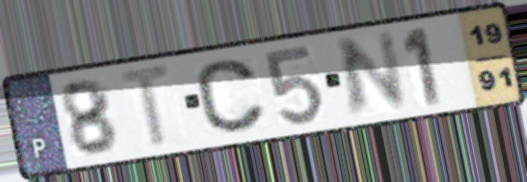1: (399, 23, 446, 109)
5: (260, 41, 329, 128)
8: (59, 77, 120, 157)
C: (192, 57, 269, 137)
N: (334, 27, 411, 122)
T: (116, 61, 179, 152)
